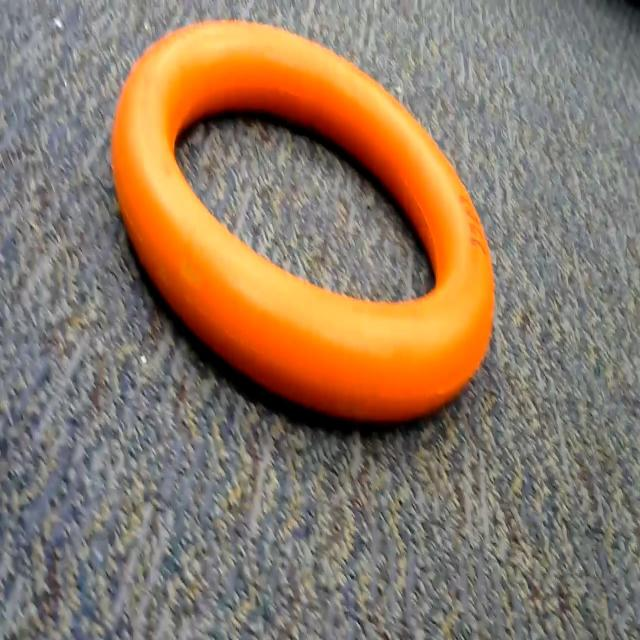note: (105, 42, 508, 431)
